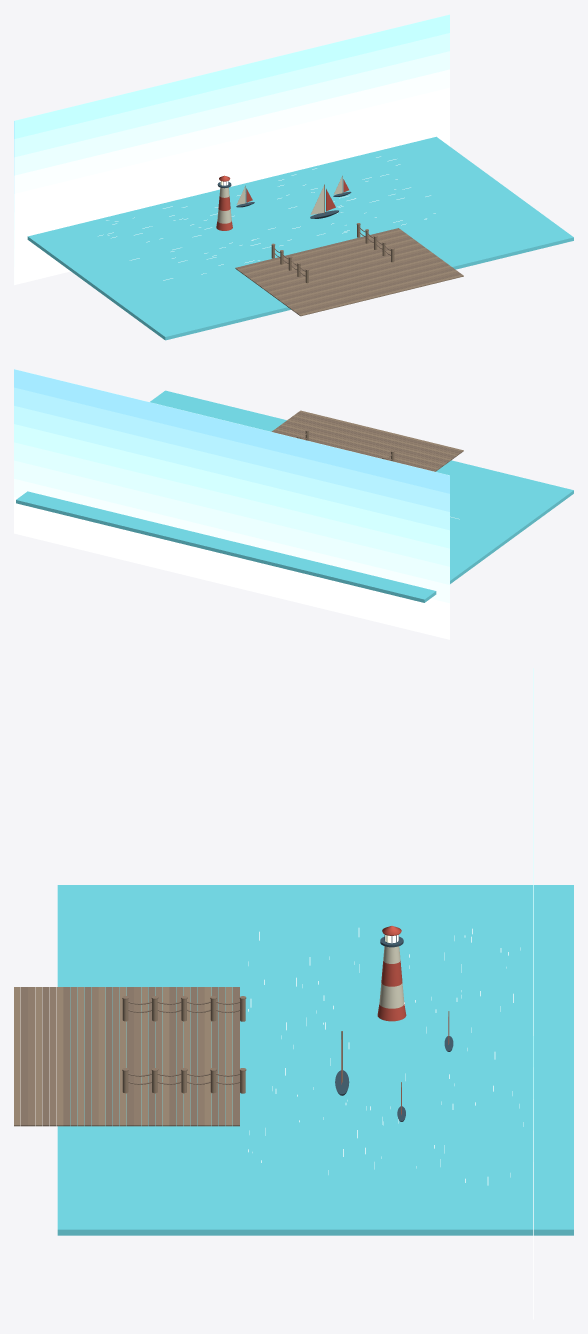
The model's file is VenuePier.fbx.
3 views of the same model, one above another, from view 1: azimuth 30°, elevation 25°; view 2: azimuth 150°, elevation 25°; view 3: azimuth 270°, elevation 25° (orthographic). The views are drawn at different scales.
Visible parts, largest first — view 1: VenuePier; view 2: VenuePier; view 3: VenuePier.
Boxes of the visible parts, x1,y1,x2,y2 form: VenuePier: (14, 14, 573, 340); VenuePier: (14, 369, 573, 639); VenuePier: (14, 668, 573, 1319).
Size of the model in its own units: 32 by 20.61 by 11.53.
